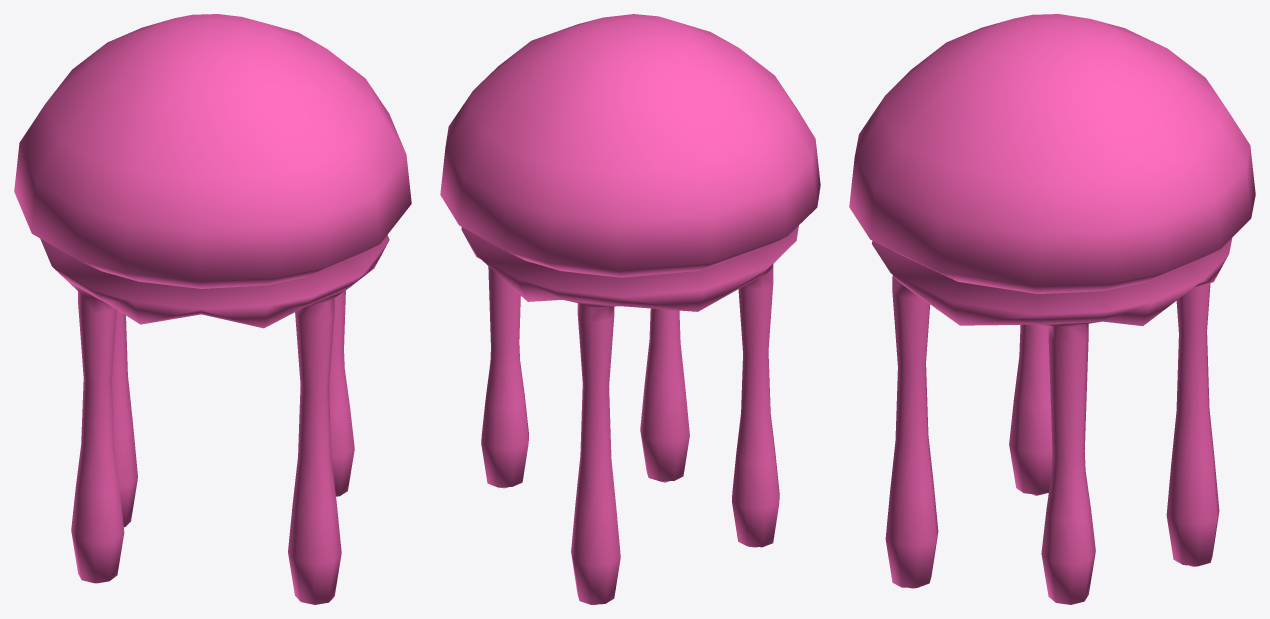
File: jellyfish.fbx
The picture shows the model from 3 angles, left to right: view 1: azimuth 30°, elevation 25°; view 2: azimuth 150°, elevation 25°; view 3: azimuth 270°, elevation 25°; orthographic projection. The views are drawn at different scales.
Parts seen in each view (by area): view 1: Jelly_Fish; view 2: Jelly_Fish; view 3: Jelly_Fish.
Boxes of the visible parts, x1,y1,x2,y2 form: Jelly_Fish: (14, 14, 411, 604); Jelly_Fish: (440, 14, 820, 604); Jelly_Fish: (849, 14, 1255, 604).
Size of the model in its own units: 6.8 by 10.17 by 6.8.
